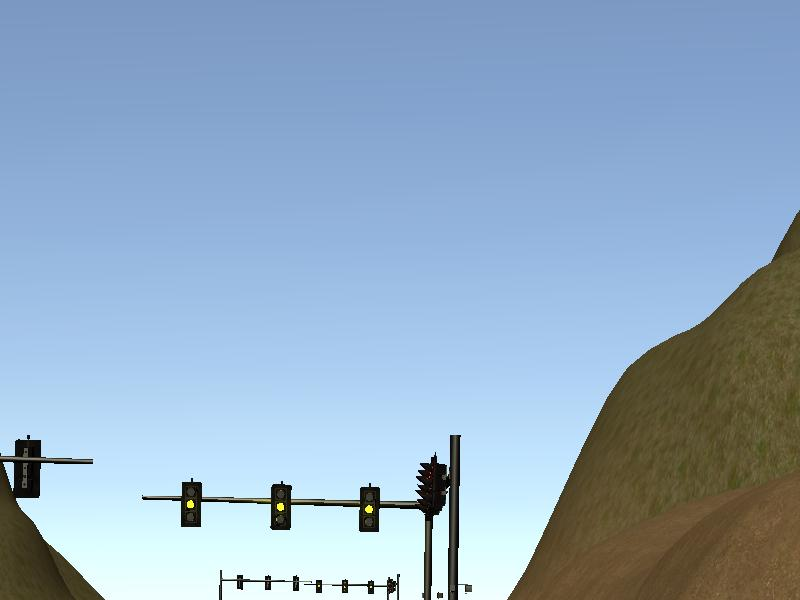yellow: (180, 480, 203, 528), (269, 482, 292, 530), (358, 486, 381, 534)
